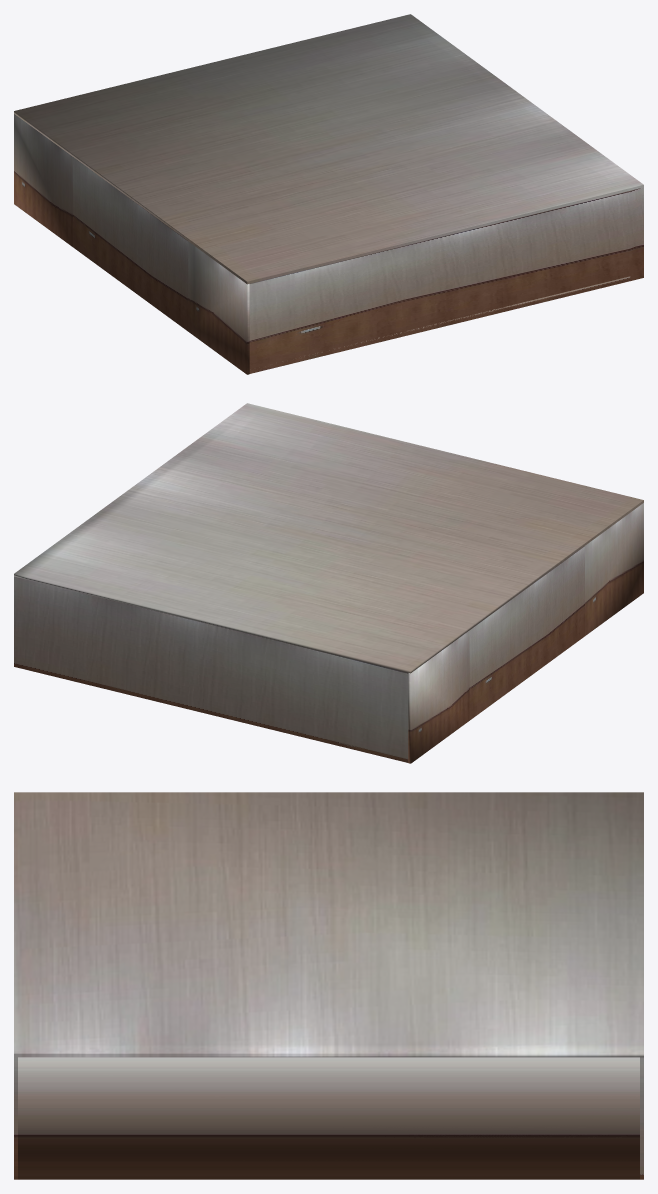
The model's file is changing-rooms.fbx.
3 views of the same model, one above another, from view 1: azimuth 30°, elevation 25°; view 2: azimuth 150°, elevation 25°; view 3: azimuth 270°, elevation 25° (orthographic). The views are drawn at different scales.
Visible parts, largest first — view 1: Circle.001, Circle.013; view 2: Circle.001, Circle.013; view 3: Circle.013, Circle.001.
Boxes of the visible parts, x1,y1,x2,y2 form: Circle.001: (14, 14, 643, 374); Circle.013: (14, 111, 643, 374); Circle.001: (14, 403, 643, 763); Circle.013: (14, 403, 643, 763); Circle.013: (14, 792, 643, 1179); Circle.001: (25, 792, 643, 1179).
Bounding box in the file's own units: 8355 × 1876 × 8505.
4 materials, 4 textured.
